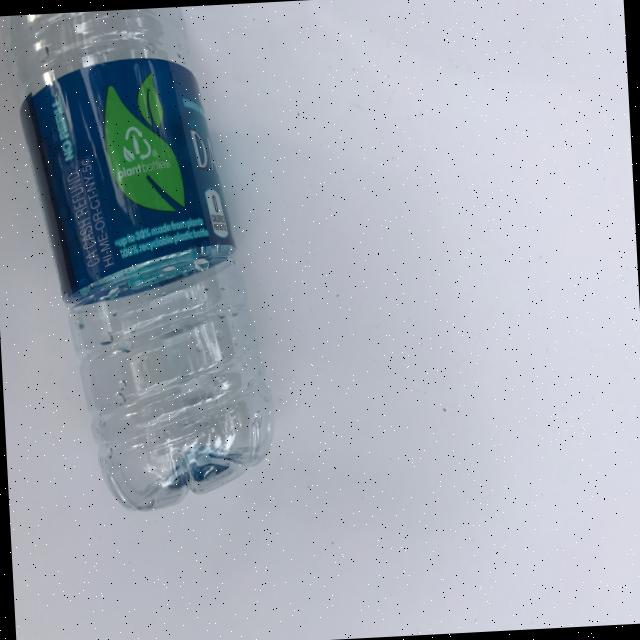plastic: (3, 4, 279, 517)
